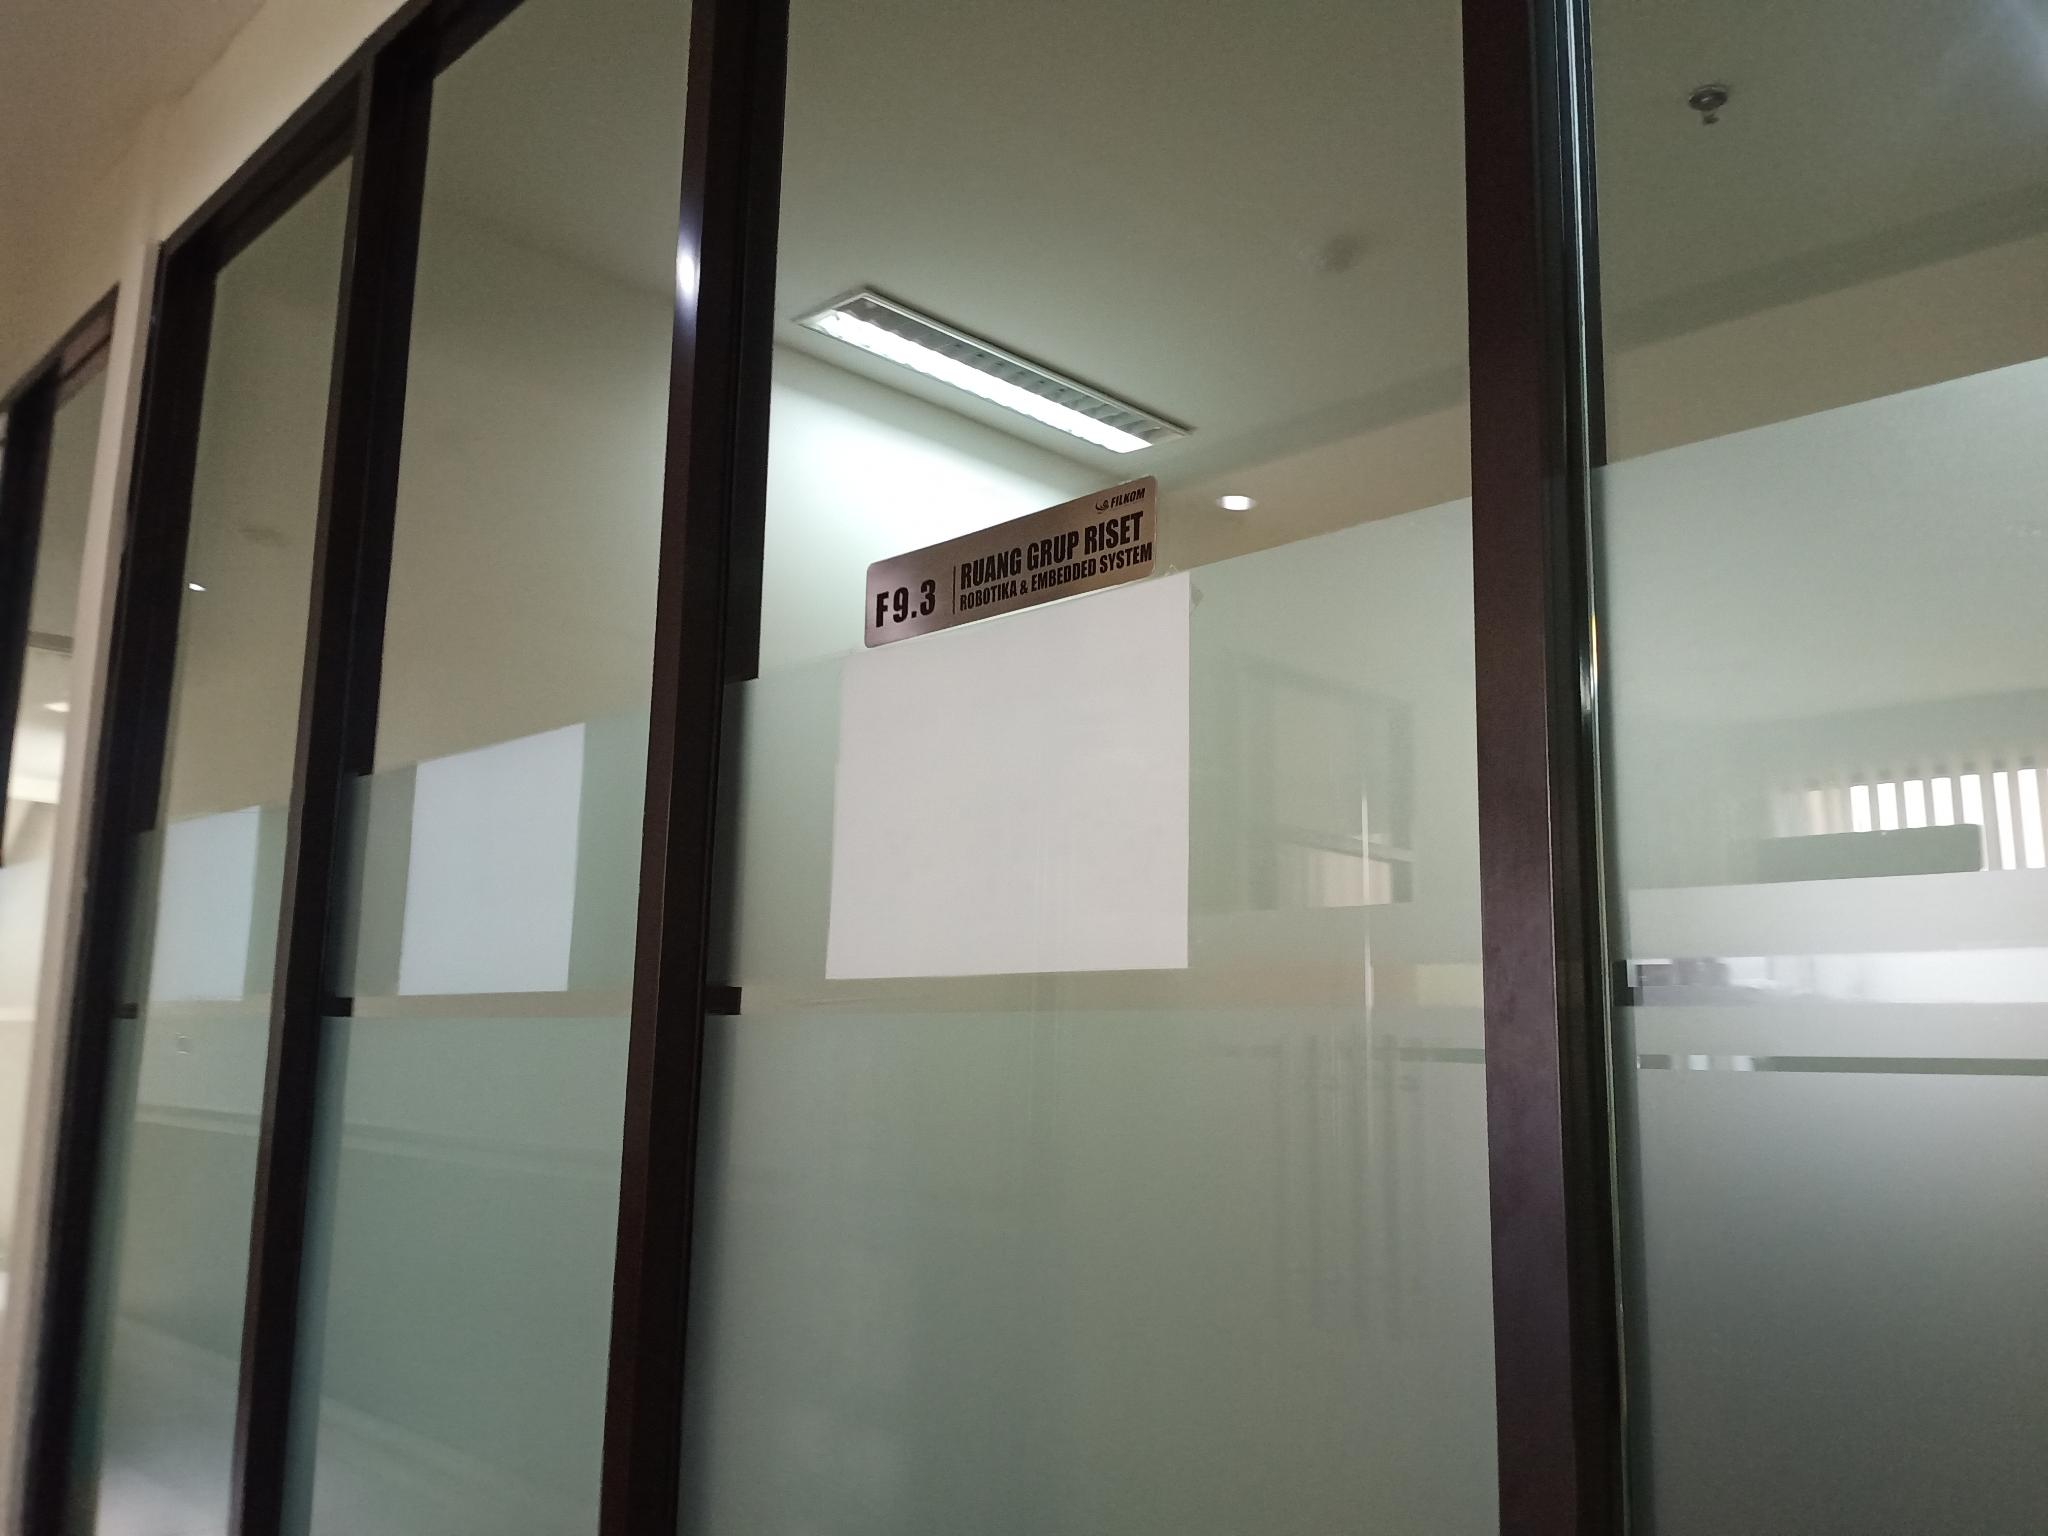plate: (861, 479, 1158, 650)
